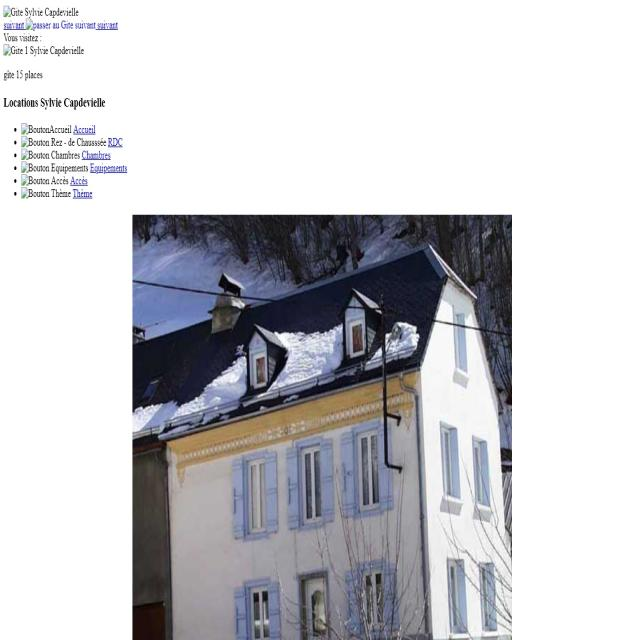heading: (2, 93, 107, 111)
image: (132, 213, 512, 640), (3, 42, 11, 58), (4, 5, 12, 20), (20, 173, 29, 186), (26, 17, 33, 32), (21, 120, 28, 135), (21, 136, 29, 148), (22, 187, 28, 200), (22, 161, 28, 173), (21, 150, 28, 160)
link: (2, 22, 120, 30), (89, 162, 128, 175), (81, 148, 112, 162), (73, 121, 97, 134), (70, 188, 94, 200), (70, 174, 91, 186), (107, 136, 124, 147)
text: (29, 162, 128, 175), (29, 136, 124, 148), (12, 4, 80, 20), (12, 44, 87, 58), (29, 148, 112, 160), (30, 187, 94, 200), (29, 122, 96, 134), (29, 175, 90, 186), (4, 32, 42, 44), (3, 69, 44, 80)
